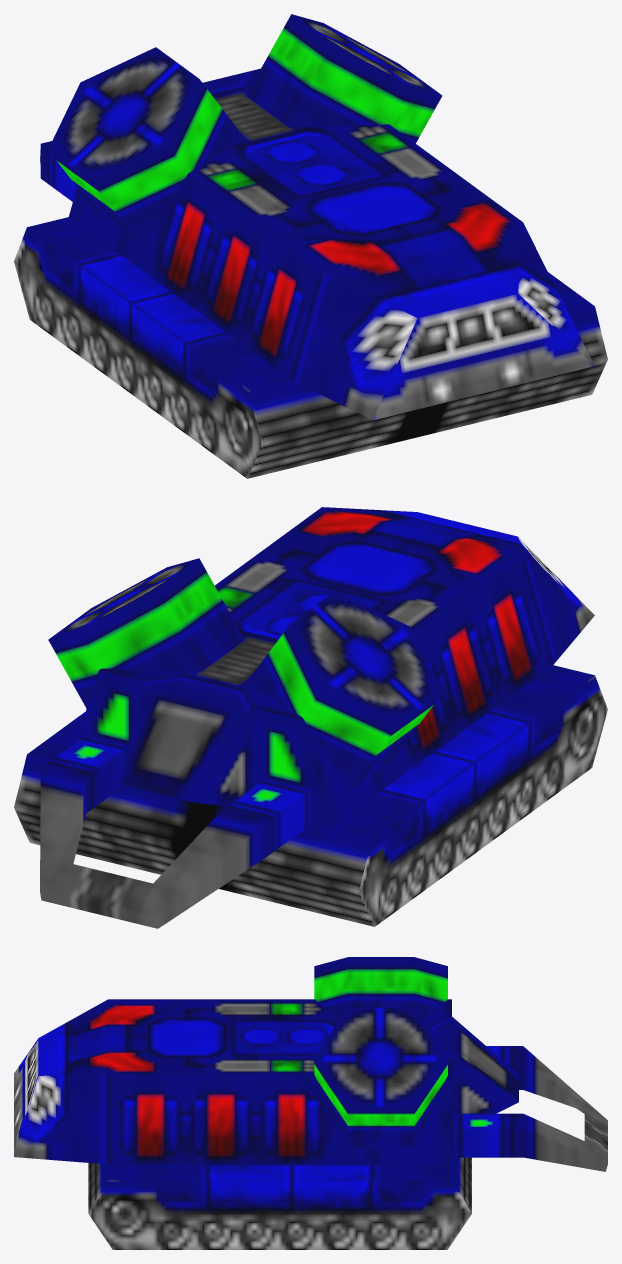
Rendered from minelayer.glb.
The picture shows the model from 3 angles, top to bottom: view 1: azimuth 30°, elevation 25°; view 2: azimuth 150°, elevation 25°; view 3: azimuth 270°, elevation 25°; orthographic projection. The views are drawn at different scales.
Parts seen in each view (by area): view 1: MineLayer; view 2: MineLayer; view 3: MineLayer.
Boxes of the visible parts, box(x1,y1,x2,y2) form: MineLayer: box(14, 14, 607, 478); MineLayer: box(14, 507, 607, 928); MineLayer: box(14, 957, 607, 1249).
Bounding box in the file's own units: 4.39 × 3.14 × 8.35.
Materials: 1 (1 with a texture image).
